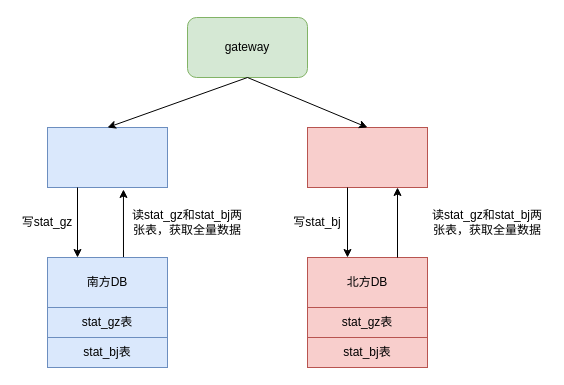
The diagram is 564 pixels wide and 385 high, and some of its shapes have lost their labels. The shapes that lost their labels are listed below. From the top down, each one's centre as x and y in pixels, then its label:
At point (107, 157): "南方接口".
At point (367, 157): "北方接口".
